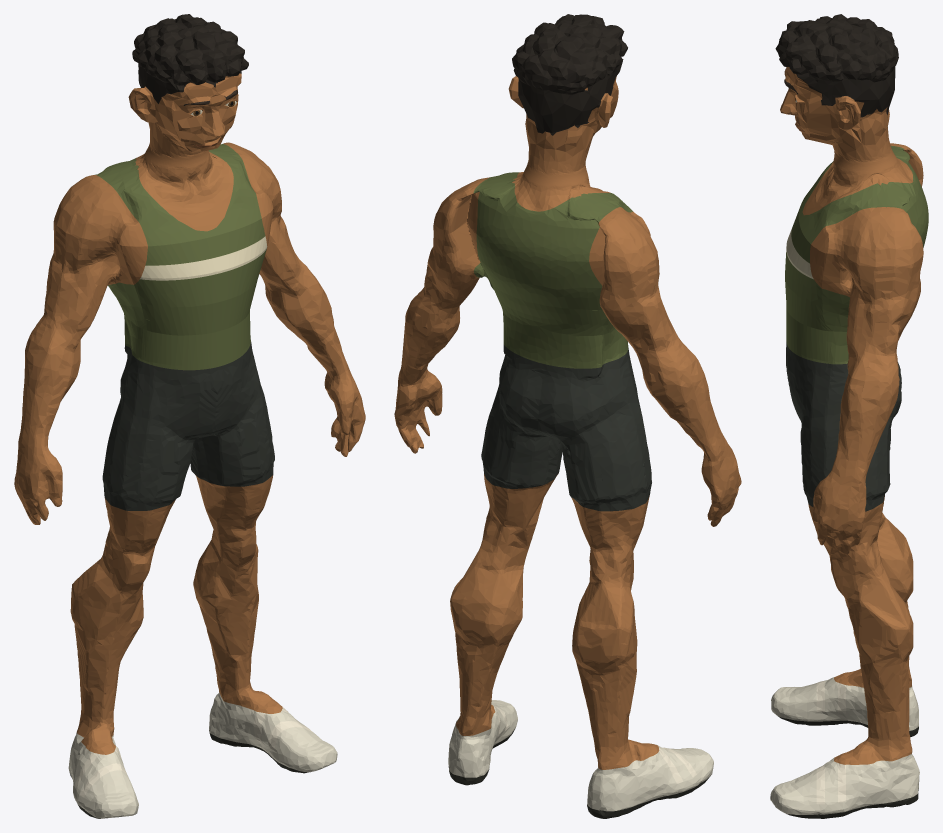
File: standing.glb
3 renders of one model, left to right at view 1: azimuth 30°, elevation 25°; view 2: azimuth 150°, elevation 25°; view 3: azimuth 270°, elevation 25°, orthographic.
Parts seen in each view (by area): view 1: Skin, Charcoal shorts, Olive singlet, Ivory shoes, Black curls, Cream stripe, Shoe straps; view 2: Skin, Charcoal shorts, Olive singlet, Black curls, Ivory shoes, Shoe soles; view 3: Skin, Olive singlet, Ivory shoes, Black curls, Charcoal shorts, Shoe straps, Shoe soles, Cream stripe.
Boxes of the visible parts, box(x1,y1,x2,y2) form: Skin: box(14, 73, 365, 754); Charcoal shorts: box(102, 342, 274, 510); Olive singlet: box(95, 144, 266, 370); Ivory shoes: box(68, 692, 337, 818); Black curls: box(132, 14, 248, 103); Cream stripe: box(140, 236, 267, 280); Shoe straps: box(74, 707, 312, 797); Skin: box(394, 76, 741, 769); Charcoal shorts: box(481, 344, 651, 511); Olive singlet: box(473, 172, 632, 368); Black curls: box(512, 14, 627, 135); Ivory shoes: box(448, 700, 713, 811); Shoe soles: box(448, 731, 710, 818); Skin: box(780, 67, 923, 764); Olive singlet: box(785, 145, 928, 364); Ivory shoes: box(770, 677, 919, 814); Black curls: box(775, 14, 898, 117); Charcoal shorts: box(786, 342, 901, 511); Shoe straps: box(816, 680, 845, 804); Shoe soles: box(778, 716, 918, 818); Cream stripe: box(786, 229, 813, 279).
Bounding box in the file's own units: 0.4668 × 1 × 0.1938.
